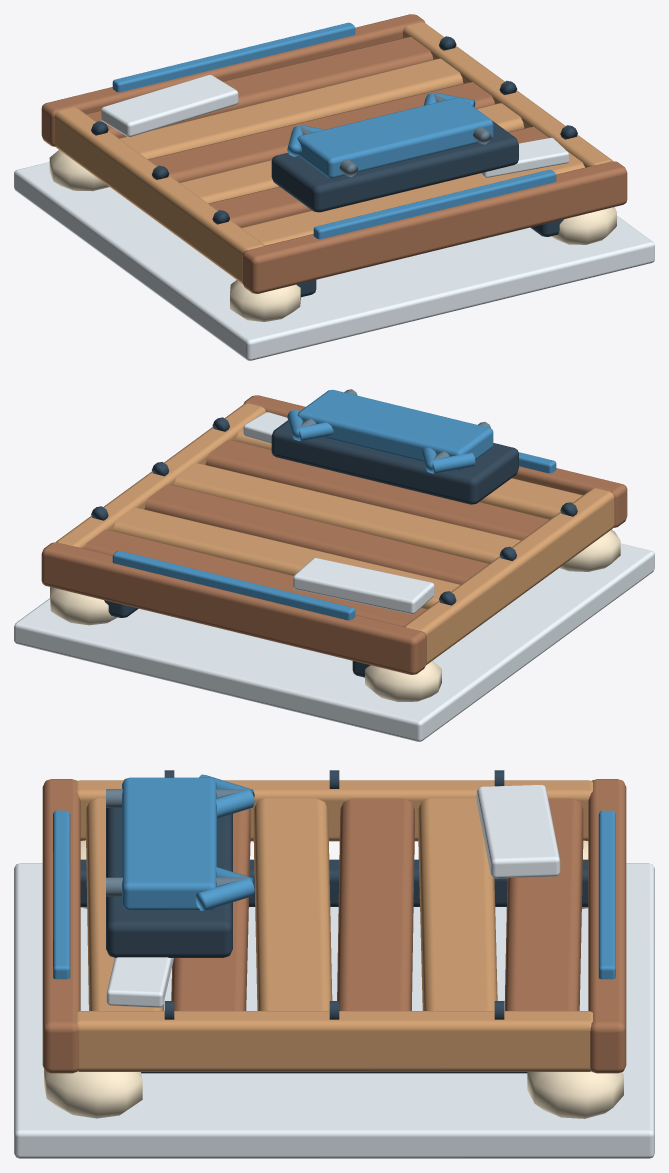
Rendered from pad_output.glb.
3 views of the same model, one above another, from view 1: azimuth 30°, elevation 25°; view 2: azimuth 150°, elevation 25°; view 3: azimuth 270°, elevation 25° (orthographic). The views are drawn at different scales.
Parts seen in each view (by area): view 1: pad_output; view 2: pad_output; view 3: pad_output.
Boxes of the visible parts, left/top/right/bottom form: pad_output: left=14, top=14, right=654, bottom=360; pad_output: left=14, top=389, right=654, bottom=741; pad_output: left=14, top=770, right=654, bottom=1158.
Size of the model in its own units: 2.02 by 0.68 by 2.02.
